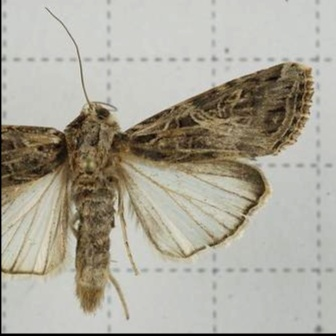Spodoptera litura: (2, 6, 314, 321)
